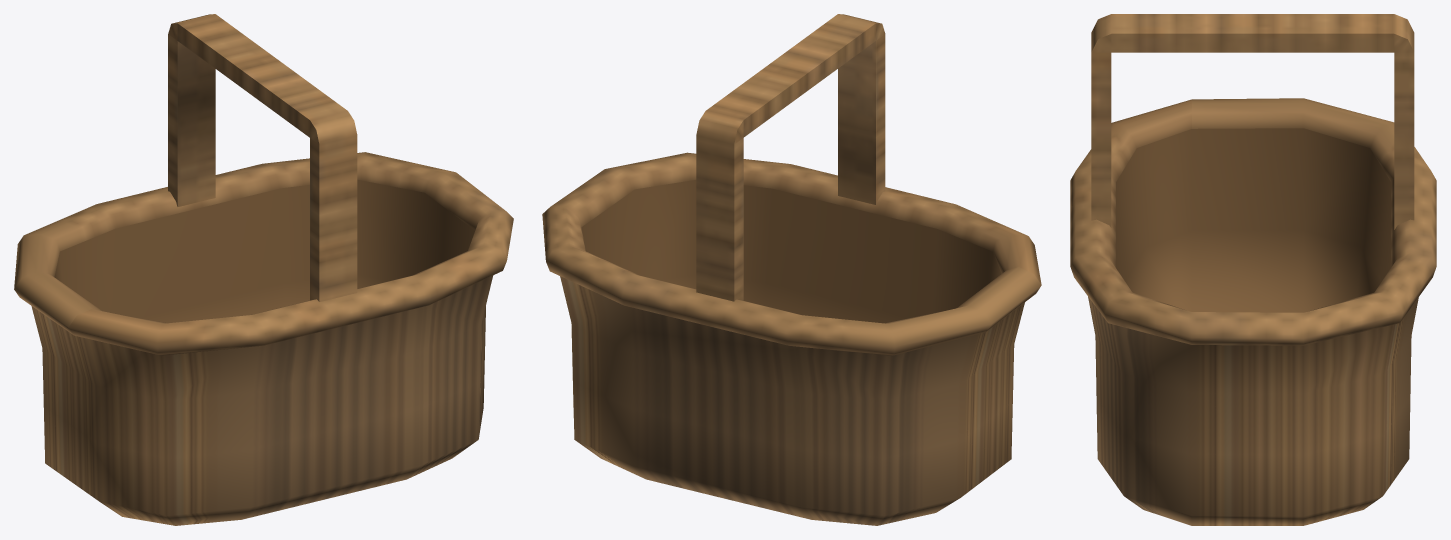
Rendered from objects_un_t03basket01.gltf.
3 views of the same model, side by side, from view 1: azimuth 30°, elevation 25°; view 2: azimuth 150°, elevation 25°; view 3: azimuth 270°, elevation 25° (orthographic). The views are drawn at different scales.
Parts seen in each view (by area): view 1: objects_un_t03basket01; view 2: objects_un_t03basket01; view 3: objects_un_t03basket01.
Boxes of the visible parts, x1=… form: objects_un_t03basket01: x1=14, y1=14, x2=513, y2=525; objects_un_t03basket01: x1=542, y1=14, x2=1041, y2=525; objects_un_t03basket01: x1=1070, y1=14, x2=1436, y2=525.
Size of the model in its own units: 0.6798 by 0.5596 by 0.4488.
1 material, 1 textured.
